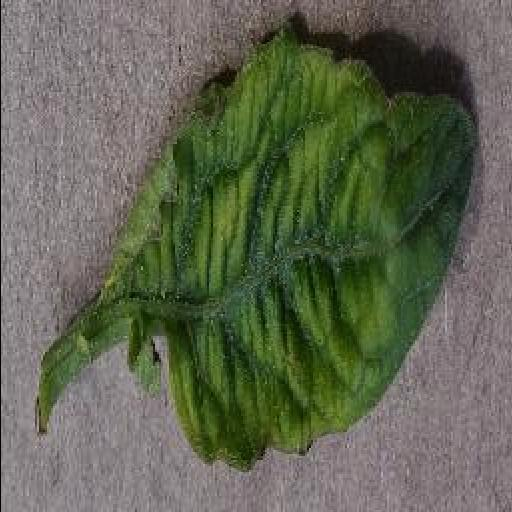disease_tomato: (106, 39, 478, 471)
